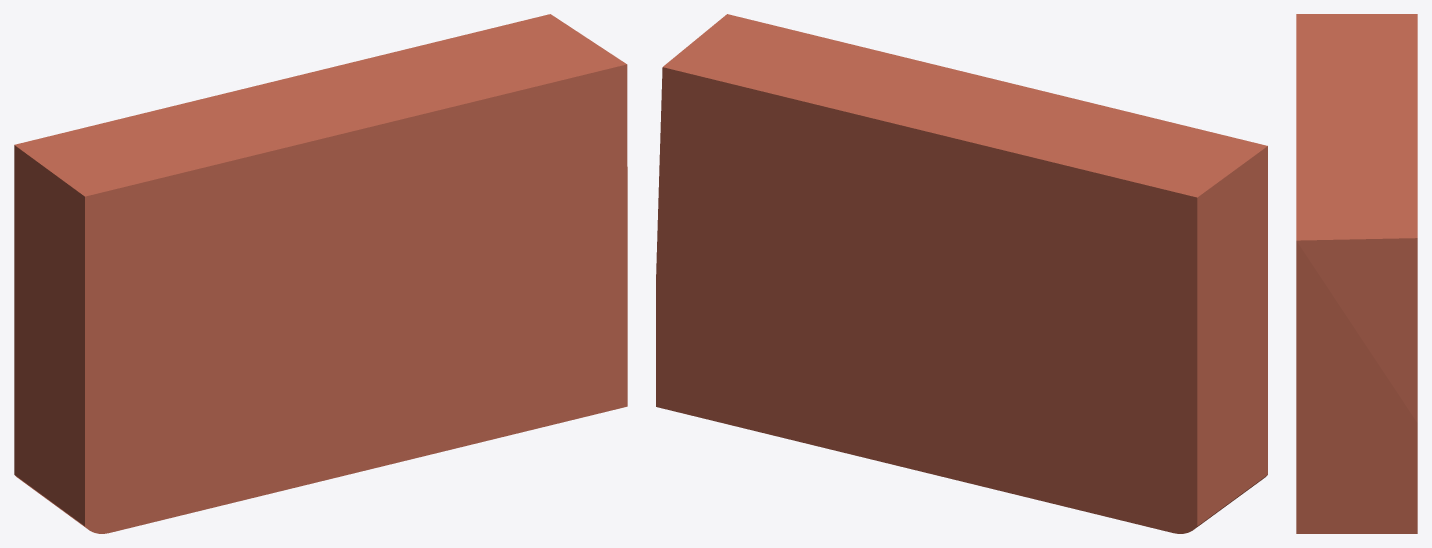
3 views of the same model, side by side, from view 1: azimuth 30°, elevation 25°; view 2: azimuth 150°, elevation 25°; view 3: azimuth 270°, elevation 25° (orthographic). The views are drawn at different scales.
Parts seen in each view (by area): view 1: decomp_9.obj; view 2: decomp_9.obj; view 3: decomp_9.obj.
Boxes of the visible parts, left/top/right/bottom form: decomp_9.obj: left=14, top=14, right=627, bottom=533; decomp_9.obj: left=656, top=14, right=1267, bottom=533; decomp_9.obj: left=1296, top=14, right=1417, bottom=533.
Bounding box in the file's own units: 0.0428 × 0.0258 × 0.00967.
